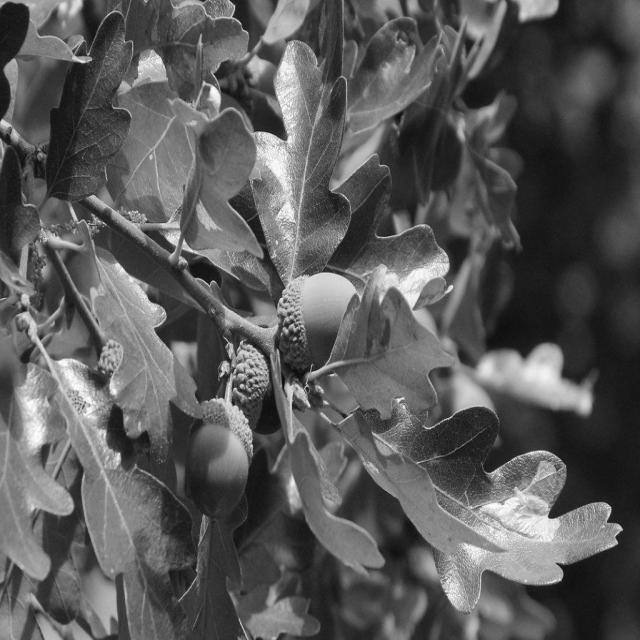Quercus garryana: (13, 14, 633, 618)
